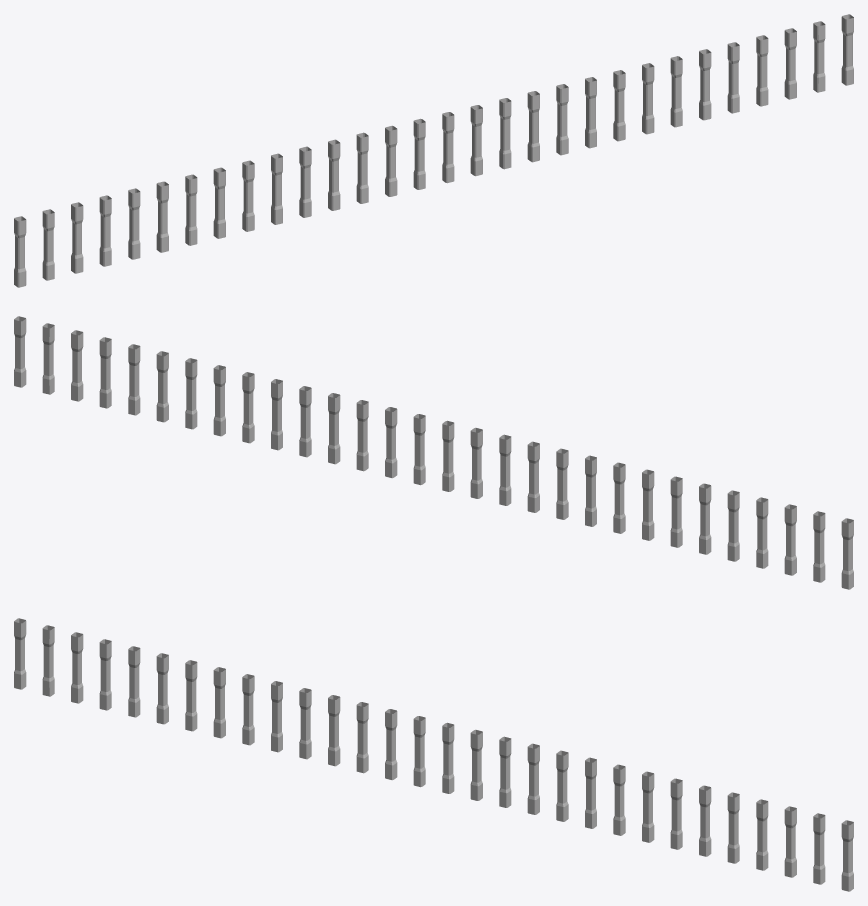
File: Museum_Handrail_Post.fbx
3 views of the same model, one above another, from view 1: azimuth 30°, elevation 25°; view 2: azimuth 150°, elevation 25°; view 3: azimuth 330°, elevation 25° (orthographic).
Visible parts, largest first — view 1: Cube.012; view 2: Cube.012; view 3: Cube.012.
Boxes of the visible parts, bbox=[...] form: Cube.012: bbox=[14, 14, 853, 287]; Cube.012: bbox=[14, 316, 853, 589]; Cube.012: bbox=[14, 618, 853, 891].
Size of the model in its own units: 15.44 by 1.17 by 0.155.
